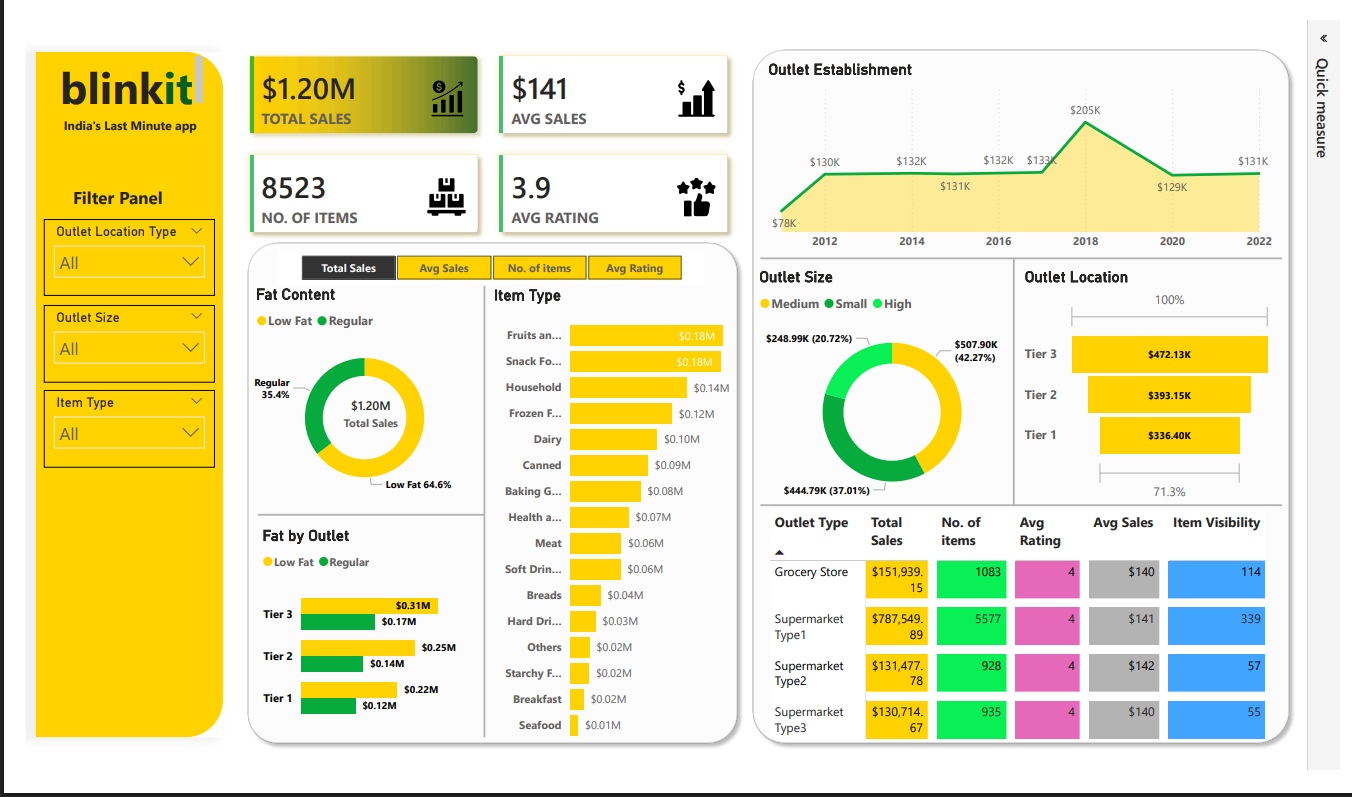

What the dashboard file says about the page in this screenshot:
{"tool":"powerbi","page":{"name":"Page 1","canvas":[1400,800],"ordinal":0},"visuals":[{"type":"shape","box":[11.4,24.3,204.3,750],"z":0},{"type":"textbox","box":[30,24.3,168.6,67.1],"z":1000},{"type":"textbox","box":[30,91.4,168.6,27.1],"z":2000},{"type":"cardVisual","fields":{"Data":["BlinkIT Grocery Data.Total Sales","BlinkIT Grocery Data.Avg Sales","BlinkIT Grocery Data.No. of items","BlinkIT Grocery Data.Avg Rating"]},"box":[215.7,0,581.4,250],"z":3000},{"type":"shape","box":[234.3,224.3,551.4,564.3],"z":4000},{"type":"donutChart","title":"Fat Content","fields":{"Category":["BlinkIT Grocery Data.Item Fat Content"],"Y":["Sum(BlinkIT Grocery Data.Sales)"]},"box":[247.1,278.6,247.1,241.4],"z":5000},{"type":"slicer","fields":{"Values":["Metrics.Metrics"]},"box":[275.7,240,465.7,38.6],"z":6000},{"type":"cardVisual","fields":{"Data":["BlinkIT Grocery Data.Total Sales"]},"box":[314.3,385.7,127.1,67.1],"z":7000},{"type":"clusteredBarChart","title":"Fat by Outlet ","fields":{"Y":["BlinkIT Grocery Data.Total Sales"],"Category":["BlinkIT Grocery Data.Outlet Location Type"],"Series":["BlinkIT Grocery Data.Item Fat Content"]},"box":[254.3,542.9,247.1,231.4],"z":8000},{"type":"shape","box":[254.3,520,247.1,21.4],"z":9000},{"type":"shape","box":[494.3,280,14.3,494.3],"z":10000},{"type":"barChart","title":"Item Type","fields":{"Y":["BlinkIT Grocery Data.Total Sales"],"Category":["BlinkIT Grocery Data.Item Type"]},"box":[507.1,280,301.4,508.6],"z":11000},{"type":"shape","box":[785.7,12.9,602.9,775.7],"z":12000},{"type":"lineChart","title":"Outlet Establishment","fields":{"Y":["BlinkIT Grocery Data.Total Sales"],"Category":["BlinkIT Grocery Data.Outlet Establishment Year"]},"box":[807.1,32.9,560,217.1],"z":13000},{"type":"shape","box":[802.9,240,570,20],"z":14000},{"type":"donutChart","title":"Outlet Size","fields":{"Y":["BlinkIT Grocery Data.Total Sales"],"Category":["BlinkIT Grocery Data.Outlet Size"]},"box":[797.1,260,300,267.1],"z":15000},{"type":"shape","box":[1072.9,250,14.3,270],"z":16000},{"type":"funnel","title":"Outlet Location","fields":{"Category":["BlinkIT Grocery Data.Outlet Location Type"],"Y":["BlinkIT Grocery Data.Total Sales"]},"box":[1087.1,260,280,260],"z":17000},{"type":"pivotTable","fields":{"Rows":["BlinkIT Grocery Data.Outlet Type"],"Values":["BlinkIT Grocery Data.Total Sales","BlinkIT Grocery Data.No. of items","BlinkIT Grocery Data.Avg Rating","BlinkIT Grocery Data.Avg Sales","Sum(BlinkIT Grocery Data.Item Visibility)"]},"box":[808.6,520,564.3,261.4],"z":18000},{"type":"shape","box":[802.9,510,570,20],"z":18001},{"type":"slicer","fields":{"Values":["BlinkIT Grocery Data.Outlet Location Type"]},"box":[20,207.1,187.1,84.3],"z":18002},{"type":"slicer","fields":{"Values":["BlinkIT Grocery Data.Outlet Size"]},"box":[20,301.4,187.1,84.3],"z":18003},{"type":"slicer","fields":{"Values":["BlinkIT Grocery Data.Item Type"]},"box":[20,394.3,187.1,84.3],"z":18004},{"type":"textbox","box":[47.1,165.7,134.3,41.4],"z":18005}]}

Visuals, with their boxes on the page's 1400x800 design canvas (x1, y1, x2, y2). These are canvas units, not pixel positions in the 1352x797 screenshot, which may show the page scaled, cropped or inside an application window:
shape: l=11, t=24, r=216, b=774
textbox: l=30, t=24, r=199, b=91
textbox: l=30, t=91, r=199, b=118
cardVisual - BlinkIT Grocery Data.Total Sales x BlinkIT Grocery Data.Avg Sales: l=216, t=0, r=797, b=250
shape: l=234, t=224, r=786, b=789
"Fat Content" donutChart: l=247, t=279, r=494, b=520
slicer - Metrics.Metrics: l=276, t=240, r=741, b=279
cardVisual - BlinkIT Grocery Data.Total Sales: l=314, t=386, r=441, b=453
"Fat by Outlet " clusteredBarChart: l=254, t=543, r=501, b=774
shape: l=254, t=520, r=501, b=541
shape: l=494, t=280, r=509, b=774
"Item Type" barChart: l=507, t=280, r=808, b=789
shape: l=786, t=13, r=1389, b=789
"Outlet Establishment" lineChart: l=807, t=33, r=1367, b=250
shape: l=803, t=240, r=1373, b=260
"Outlet Size" donutChart: l=797, t=260, r=1097, b=527
shape: l=1073, t=250, r=1087, b=520
"Outlet Location" funnel: l=1087, t=260, r=1367, b=520
pivotTable - BlinkIT Grocery Data.Outlet Type x BlinkIT Grocery Data.Total Sales: l=809, t=520, r=1373, b=781
shape: l=803, t=510, r=1373, b=530
slicer - BlinkIT Grocery Data.Outlet Location Type: l=20, t=207, r=207, b=291
slicer - BlinkIT Grocery Data.Outlet Size: l=20, t=301, r=207, b=386
slicer - BlinkIT Grocery Data.Item Type: l=20, t=394, r=207, b=479
textbox: l=47, t=166, r=181, b=207
